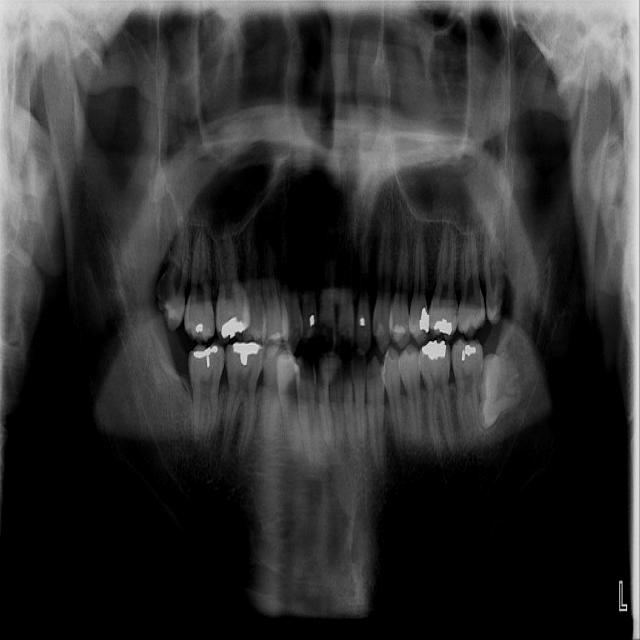Caries: (157, 276, 172, 303)
Filling: (300, 299, 319, 354), (230, 339, 265, 367), (354, 307, 373, 357), (191, 344, 221, 367), (219, 314, 245, 339), (420, 340, 448, 361), (413, 308, 431, 335), (390, 322, 409, 342), (457, 343, 479, 360), (431, 318, 454, 334), (189, 317, 207, 335)
impacted tooth: (478, 352, 532, 428)
